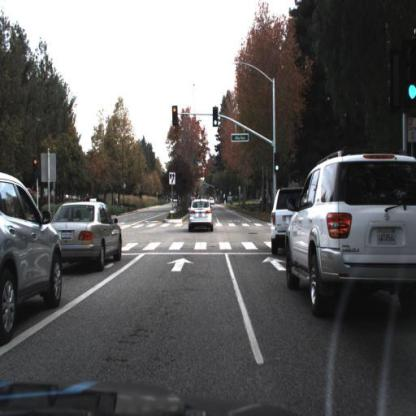car: (284, 147, 416, 317), (2, 170, 67, 346), (46, 199, 125, 269), (269, 186, 307, 255), (188, 198, 215, 235), (272, 199, 294, 220)
trafficLight-Green: (274, 151, 282, 176), (212, 107, 220, 128)
trafficLight-RedLeft: (172, 104, 180, 126), (33, 156, 40, 181), (172, 105, 179, 126), (34, 158, 40, 172)
